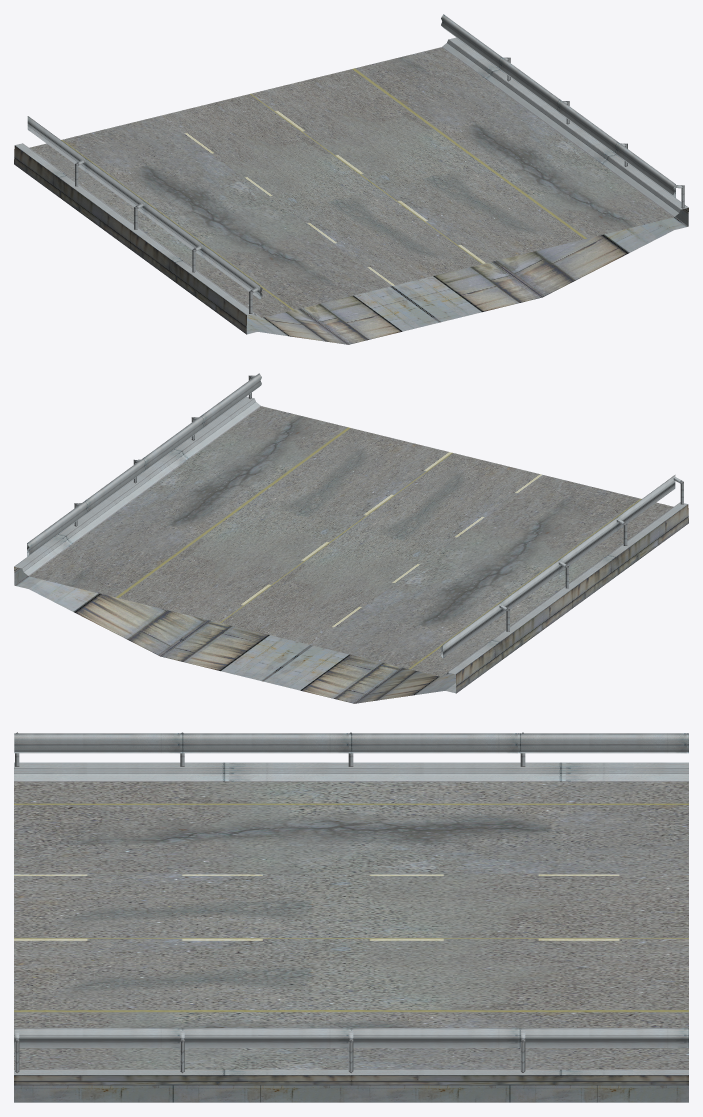
The model's file is Highway_Road_Part_01.fbx.
3 renders of one model, top to bottom at view 1: azimuth 30°, elevation 25°; view 2: azimuth 150°, elevation 25°; view 3: azimuth 270°, elevation 25°, orthographic. The views are drawn at different scales.
Visible parts, largest first — view 1: Highway_Road_Part_01; view 2: Highway_Road_Part_01; view 3: Highway_Road_Part_01.
Boxes of the visible parts, bbox=[...] form: Highway_Road_Part_01: bbox=[14, 14, 688, 344]; Highway_Road_Part_01: bbox=[14, 373, 688, 703]; Highway_Road_Part_01: bbox=[14, 732, 688, 1102].
Bounding box in the file's own units: 1452 × 253 × 1322.
